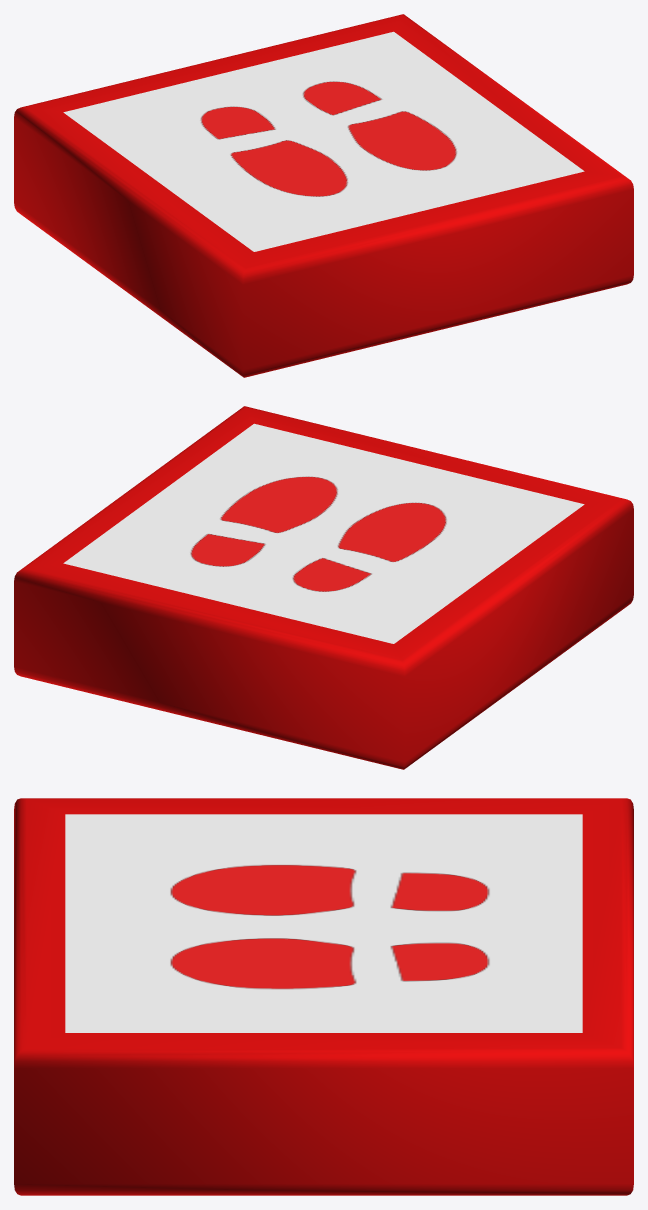
Rendered from PlatForm_01.fbx.
3 renders of one model, top to bottom at view 1: azimuth 30°, elevation 25°; view 2: azimuth 150°, elevation 25°; view 3: azimuth 270°, elevation 25°, orthographic. The views are drawn at different scales.
Parts seen in each view (by area): view 1: PlatForm_01; view 2: PlatForm_01; view 3: PlatForm_01.
Part boxes in pixels (x1,y1,x2,y2): PlatForm_01: (14,14,633,377); PlatForm_01: (14,406,633,769); PlatForm_01: (14,798,633,1195).
Bounding box in the file's own units: 3.98 × 4.04 × 1.05.
